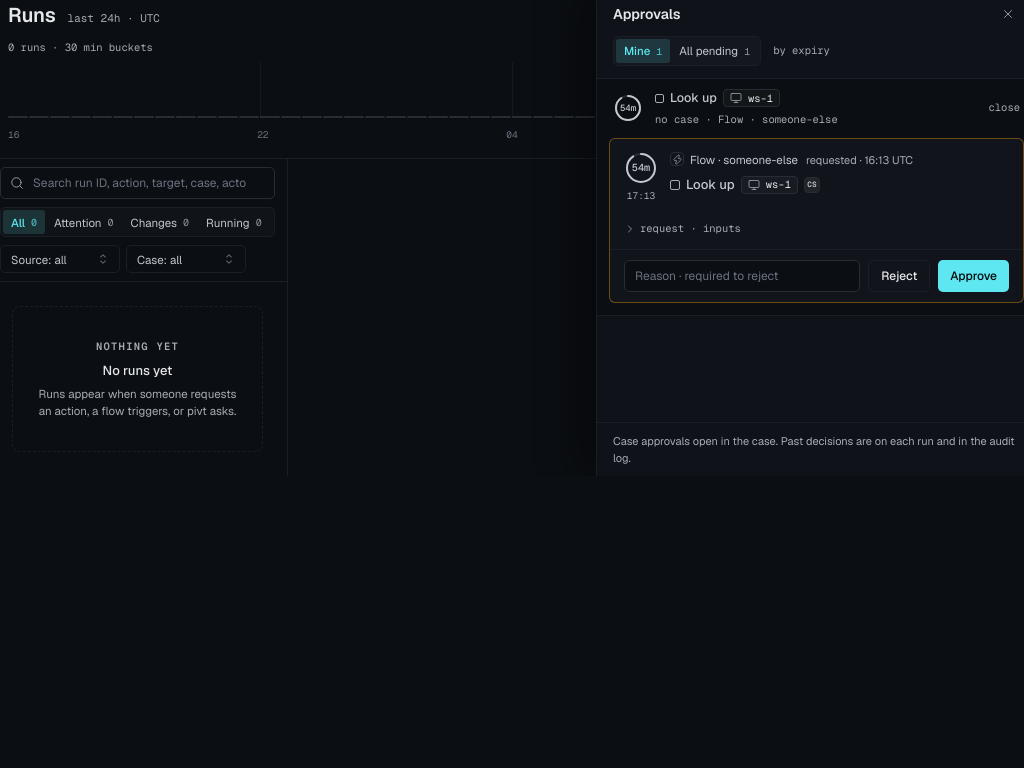
Scenario: Approvals › 409 on decide shows the lost-race message
Type "not needed" into the field named "Decision reason" at (742, 276), box x1=624 y1=260 x2=860 y2=292
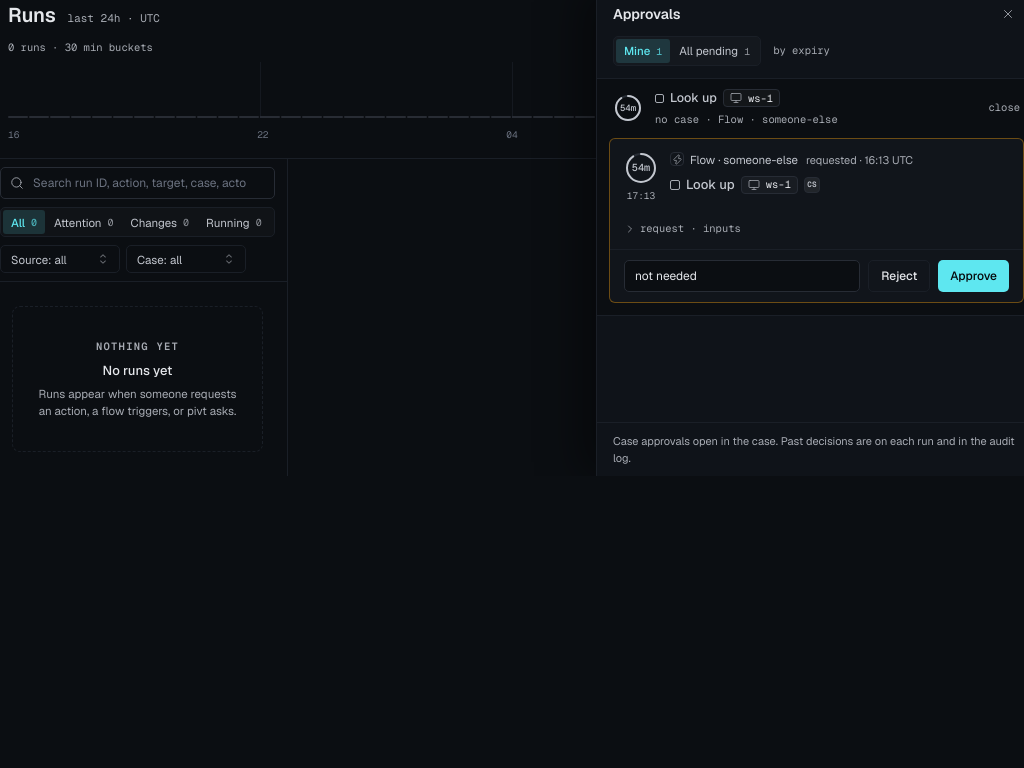
Click the button "Reject" at (899, 276), box x1=868 y1=260 x2=930 y2=292
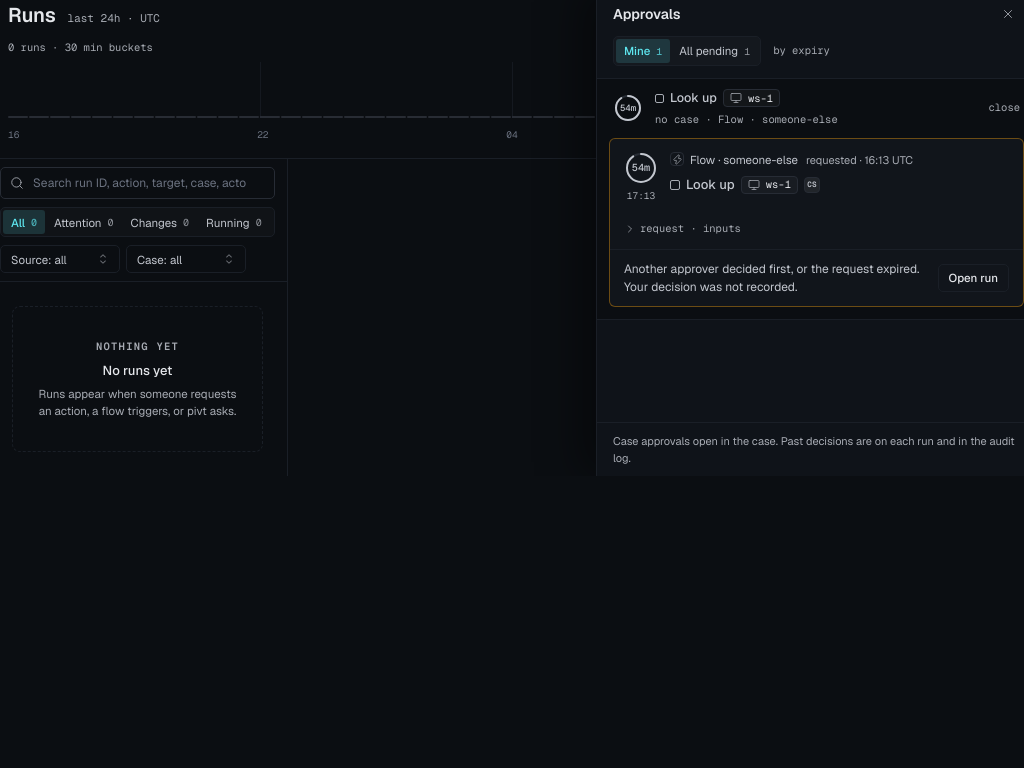
Check: the text "Another approver decided first" is shown, box x1=624 y1=260 x2=920 y2=294
